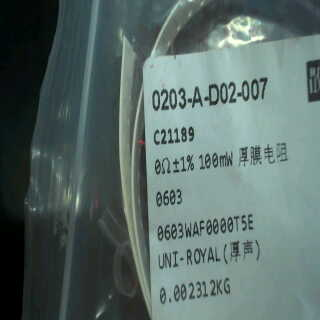0R: (151, 150, 235, 209)
